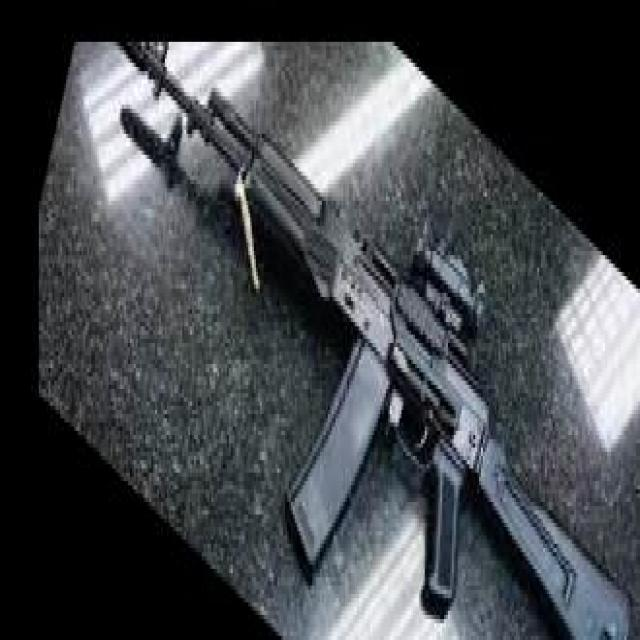weapon: (113, 42, 634, 640)
